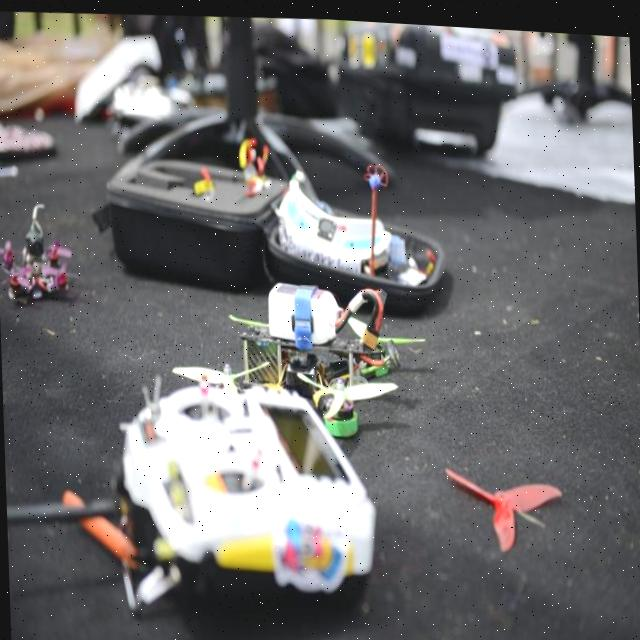drone: (186, 277, 452, 457)
